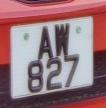2: (45, 57, 65, 93)
7: (62, 54, 83, 89)
8: (25, 58, 45, 96)
A: (35, 23, 56, 60)
W: (52, 21, 73, 59)
